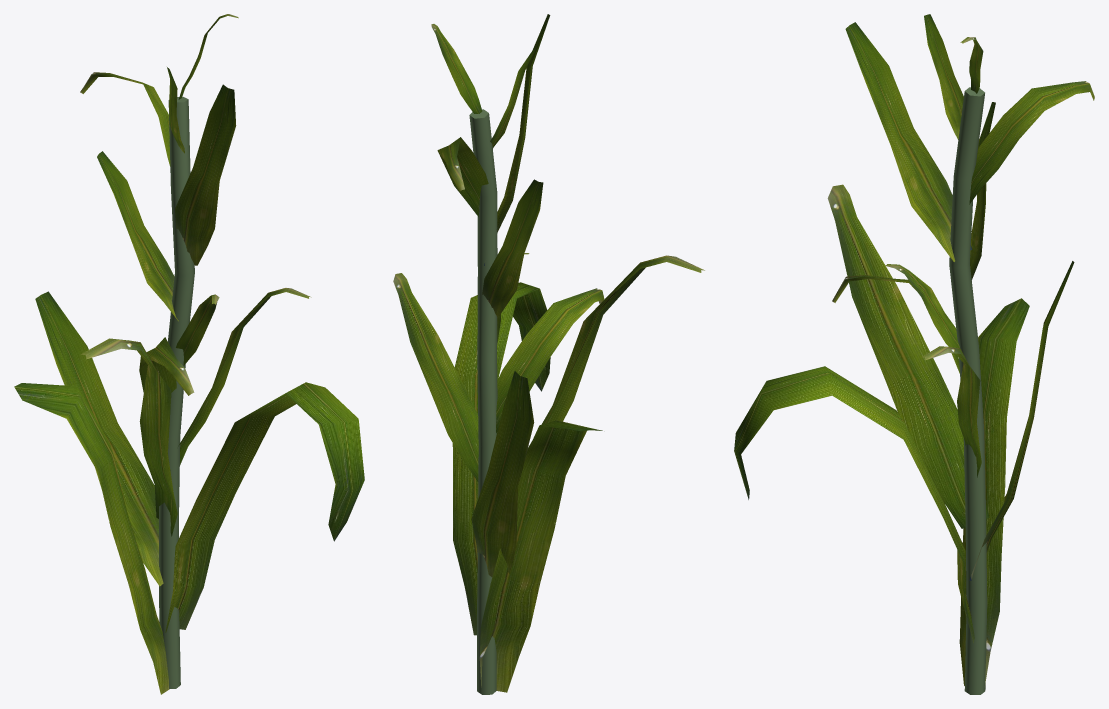
The model's file is milho2.fbx.
3 renders of one model, left to right at view 1: azimuth 30°, elevation 25°; view 2: azimuth 150°, elevation 25°; view 3: azimuth 270°, elevation 25°, orthographic. The views are drawn at different scales.
Visible parts, largest first — view 1: milho2; view 2: milho2; view 3: milho2.
Boxes of the visible parts, x1,y1,x2,y2 form: milho2: [14, 14, 364, 694]; milho2: [393, 14, 704, 694]; milho2: [734, 14, 1094, 694].
Bounding box in the file's own units: 234 × 546 × 261.
